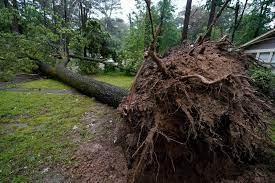Downstairs: (1, 12, 160, 132)
